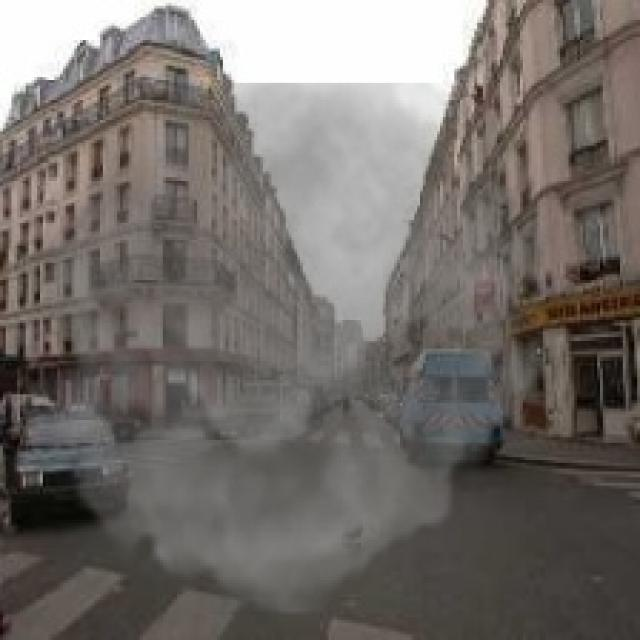smoke: (9, 83, 572, 614)
